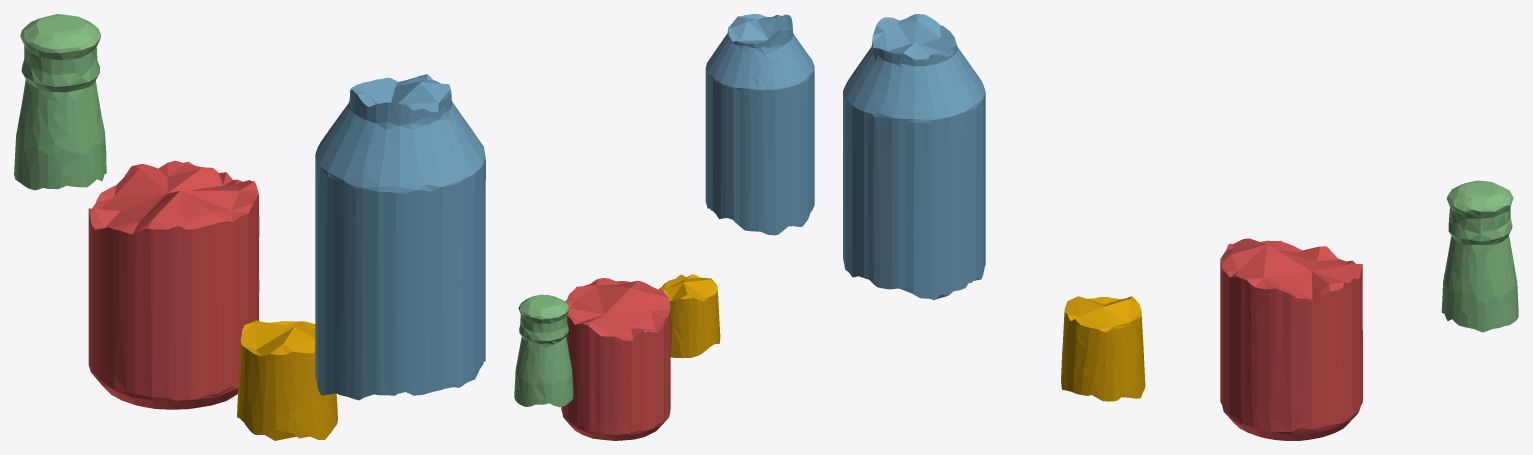
Rendered from fractured_52_4pcs_transformed.glb.
The picture shows the model from 3 angles, left to right: view 1: azimuth 30°, elevation 25°; view 2: azimuth 150°, elevation 25°; view 3: azimuth 270°, elevation 25°; orthographic projection. The views are drawn at different scales.
Visible parts, largest first — view 1: piece_2.obj, piece_1.obj, piece_3.obj, piece_0.obj; view 2: piece_2.obj, piece_1.obj, piece_3.obj, piece_0.obj; view 3: piece_2.obj, piece_1.obj, piece_3.obj, piece_0.obj.
Part boxes in pixels (x1,y1,x2,y2): piece_2.obj: (315,74,485,400); piece_1.obj: (88,160,259,409); piece_3.obj: (14,14,106,190); piece_0.obj: (237,320,337,440); piece_2.obj: (705,14,814,235); piece_1.obj: (561,278,670,440); piece_3.obj: (514,294,573,407); piece_0.obj: (659,274,720,358); piece_2.obj: (843,14,985,300); piece_1.obj: (1220,238,1362,440); piece_3.obj: (1441,180,1518,332); piece_0.obj: (1061,296,1145,401).
Size of the model in its own units: 0.2267 by 0.6793 by 1.07.
